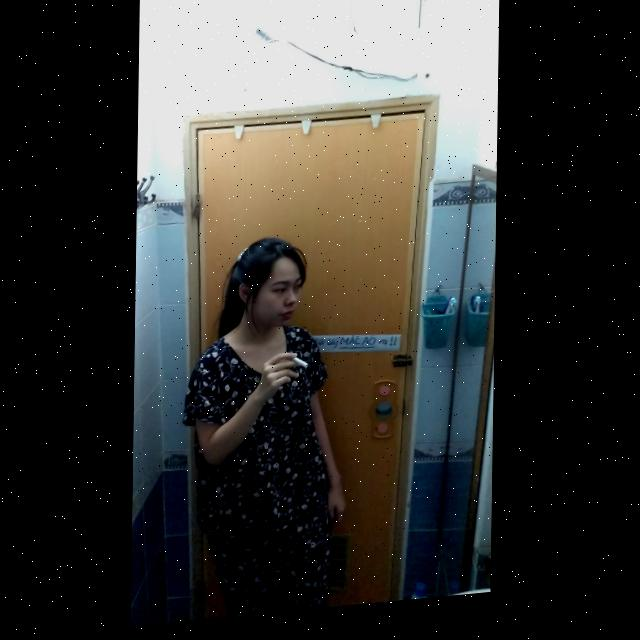cigarette: (286, 356, 309, 376)
